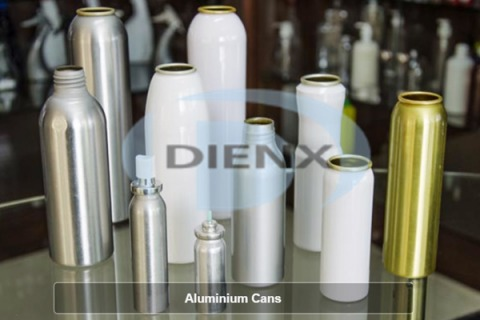Aerosol_cans: (35, 63, 119, 271), (379, 88, 450, 278), (318, 153, 375, 304), (128, 152, 173, 316)
